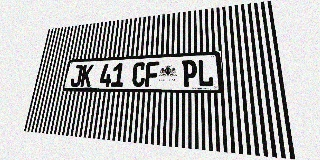1: (111, 63, 125, 87)
4: (99, 63, 113, 87)
C: (131, 62, 146, 87)
F: (145, 61, 159, 87)
J: (70, 65, 83, 87)
K: (80, 64, 94, 87)
L: (197, 59, 214, 87)
P: (182, 60, 197, 87)
